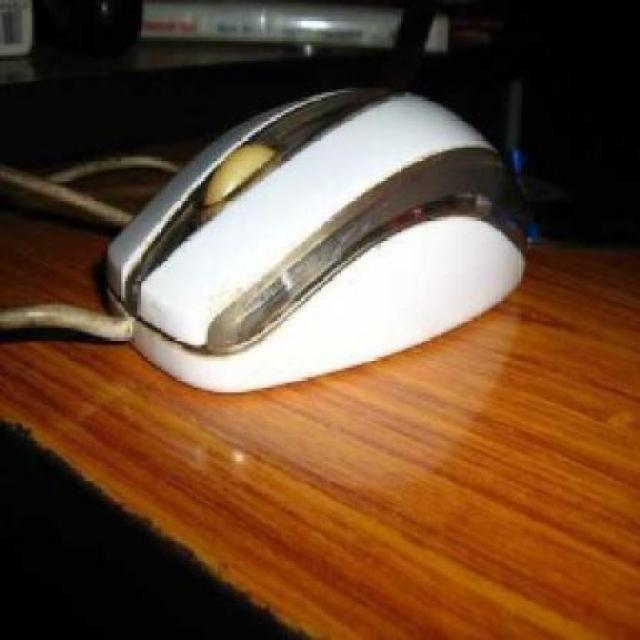mause: (107, 28, 582, 532)
